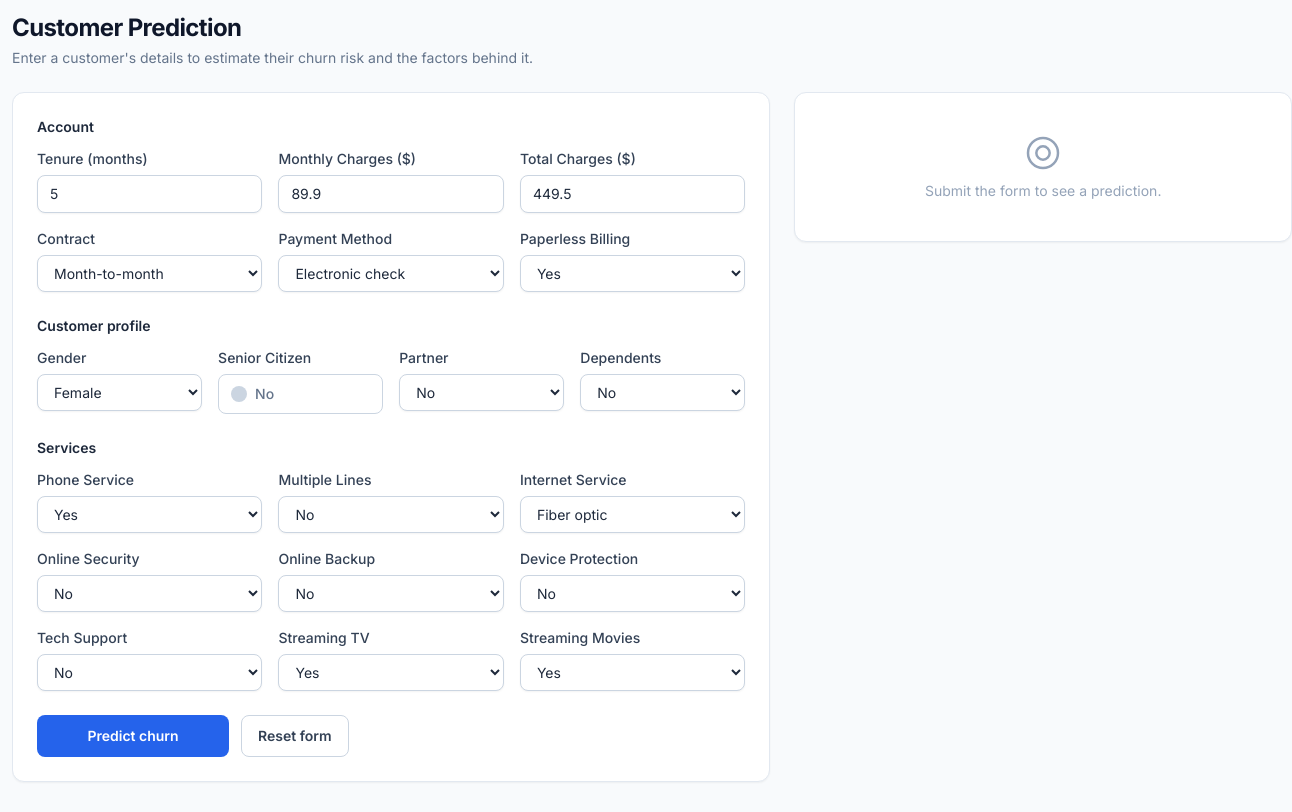
Test case: Predict page flow › shows an error state when the API fails
Click the button "Predict churn": (133, 736) left=37, top=715, right=229, bottom=757
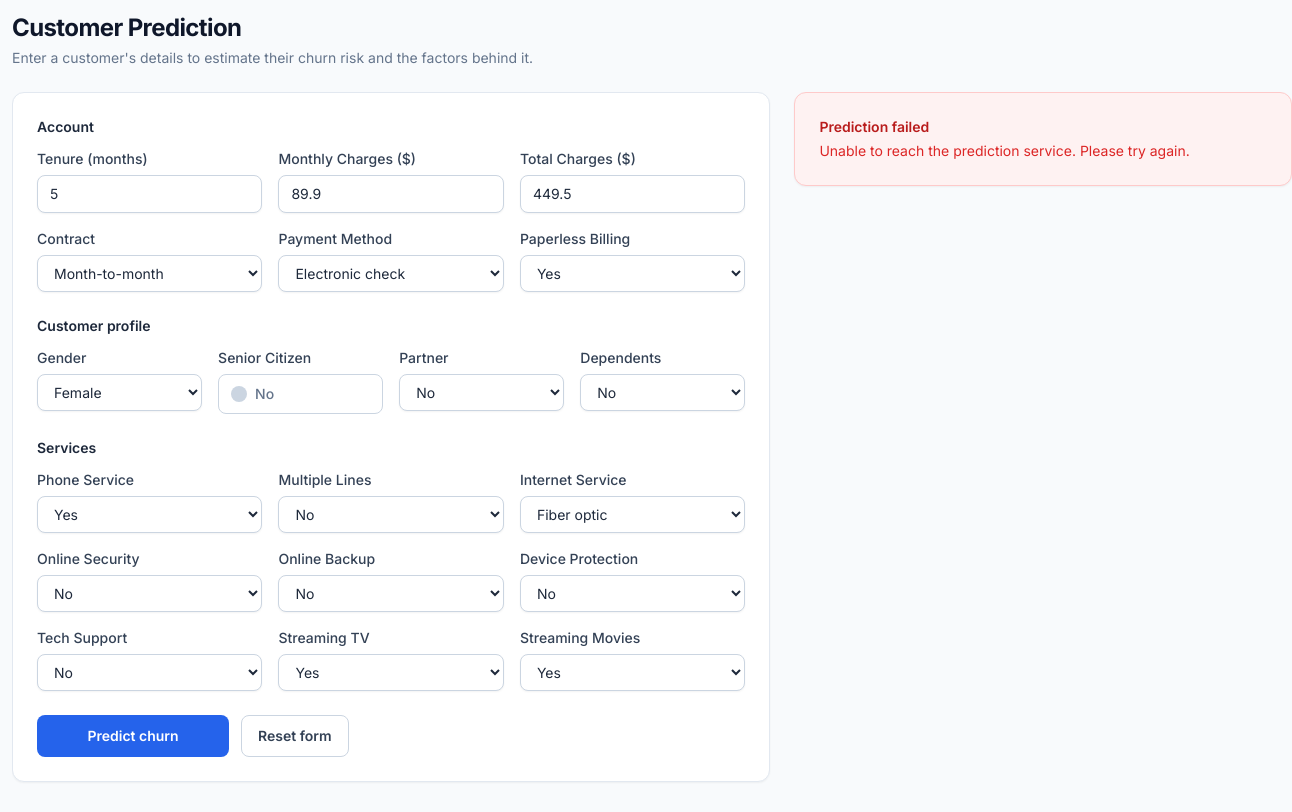
Expected: the text "Unable to reach the prediction service. Please try again." is shown, left=819, top=142, right=1190, bottom=159
